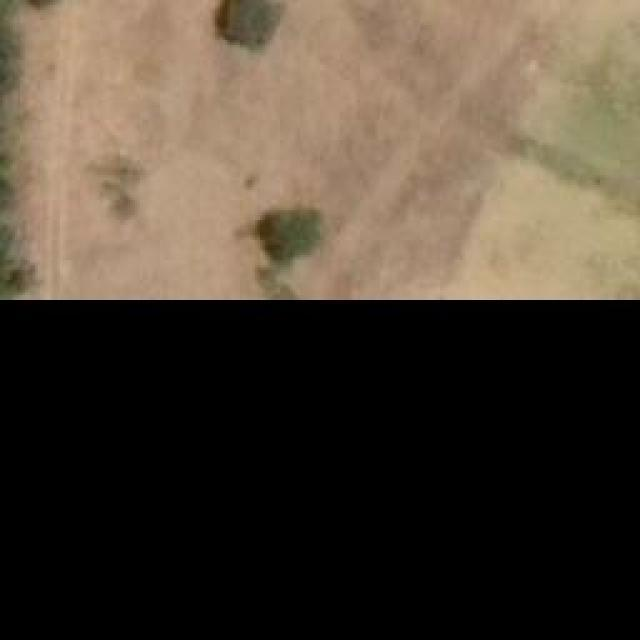Tree: (258, 205, 313, 260), (223, 0, 283, 48)
